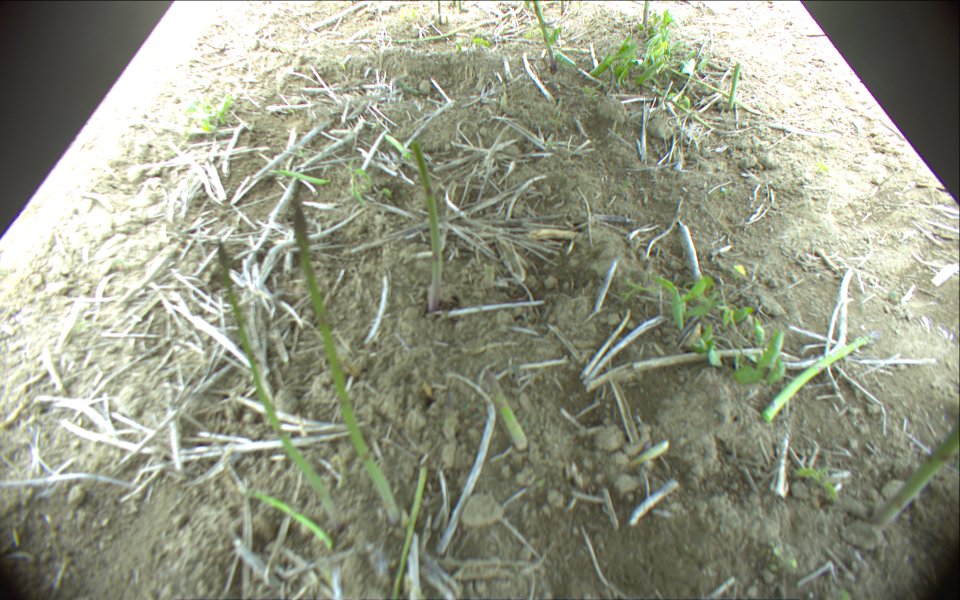aspa: (294, 206, 399, 524), (216, 237, 336, 514), (760, 329, 877, 424), (871, 418, 960, 527), (659, 56, 760, 114), (412, 139, 443, 318), (246, 486, 332, 547), (389, 465, 427, 600), (645, 80, 713, 131), (488, 371, 528, 451), (534, 1, 557, 70), (726, 61, 741, 109), (642, 1, 648, 34), (436, 1, 442, 17), (458, 1, 464, 14)
